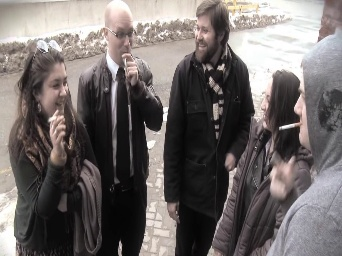smoke: (278, 120, 304, 131), (49, 109, 59, 123), (123, 53, 127, 67)
